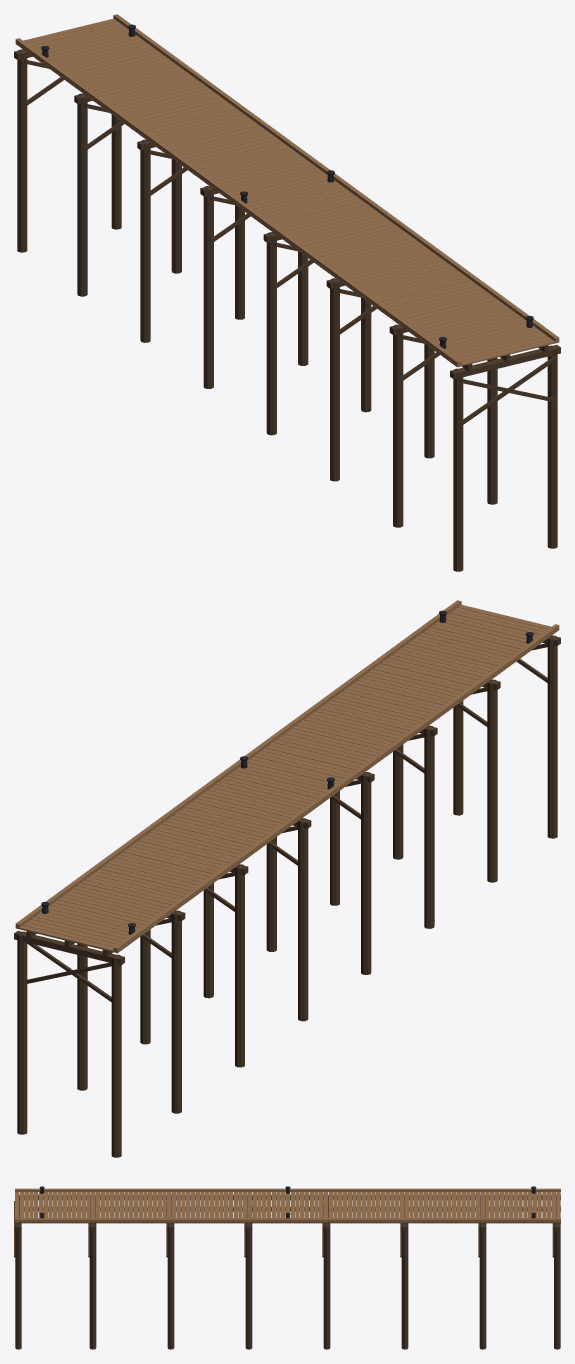
File: pier.glb
3 views of the same model, one above another, from view 1: azimuth 30°, elevation 25°; view 2: azimuth 150°, elevation 25°; view 3: azimuth 270°, elevation 25° (orthographic). The views are drawn at different scales.
Visible parts, largest first — view 1: Deck, Piles, Frame; view 2: Deck, Piles, Frame; view 3: Deck, Piles, Frame.
Part boxes in pixels (x1,y1,x2,y2): Deck: (15,14,559,367); Piles: (17,49,557,571); Frame: (14,51,560,425); Deck: (15,600,559,953); Piles: (17,635,557,1157); Frame: (14,637,560,1002); Deck: (15,1188,560,1222); Piles: (15,1200,560,1349); Frame: (14,1195,560,1257).
Bounding box in the file's own units: 4.2 × 8.11 × 30.05.
